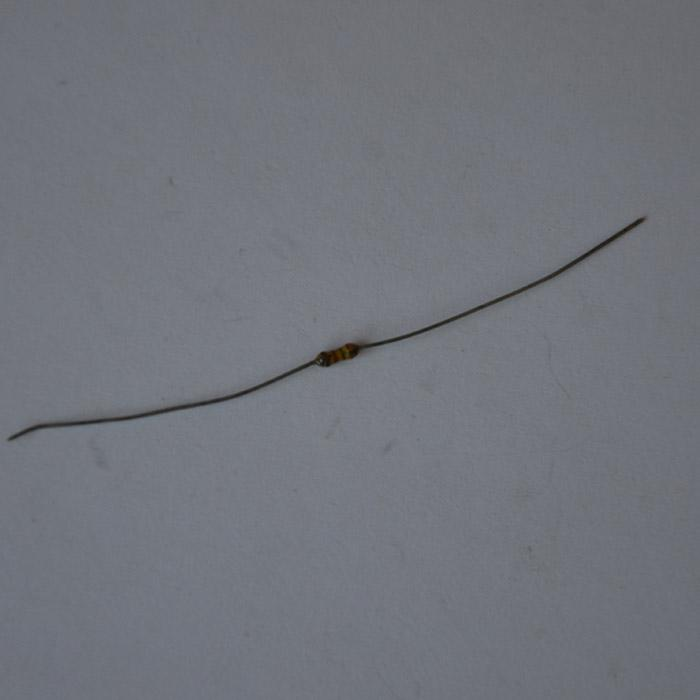resistor: (314, 340, 363, 369)
